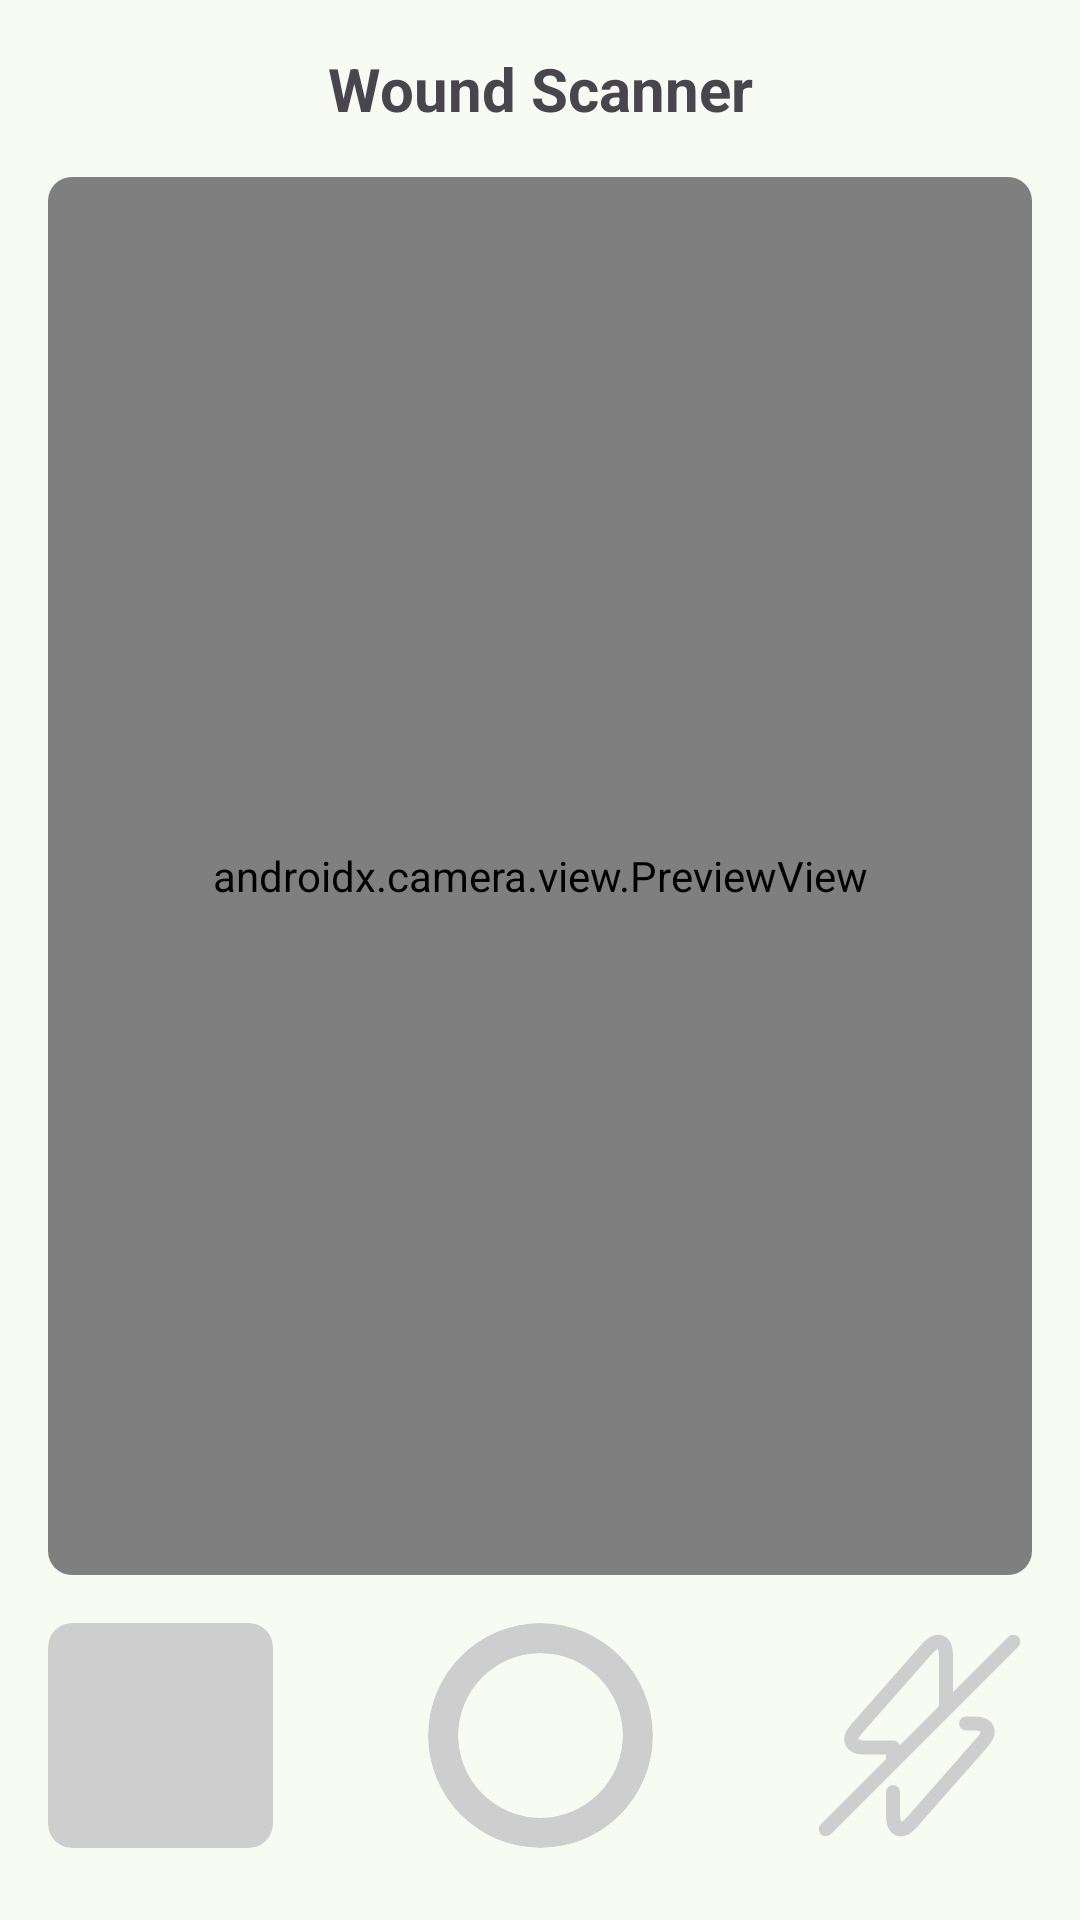

Named icons in this screenshot (1080px×1920px) and their centers, point (x, y):
Click to Activate Flash: point (919, 1735)
